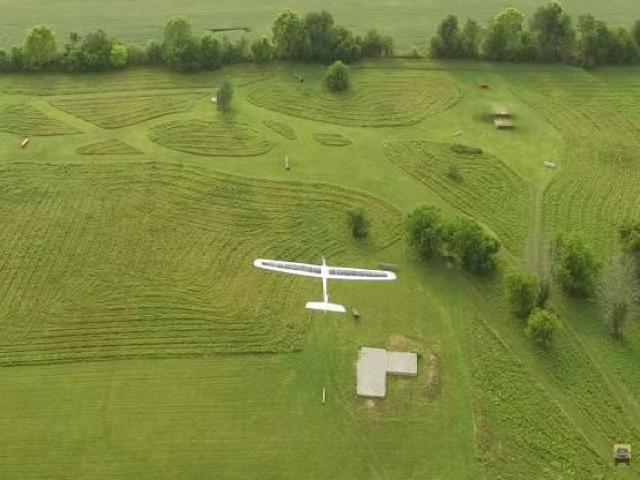uav: (244, 241, 404, 335)
